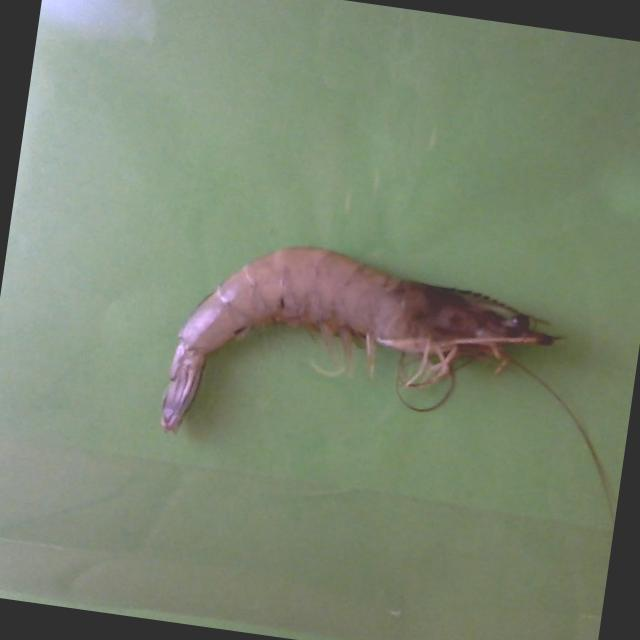shrimp: (161, 248, 557, 432)
